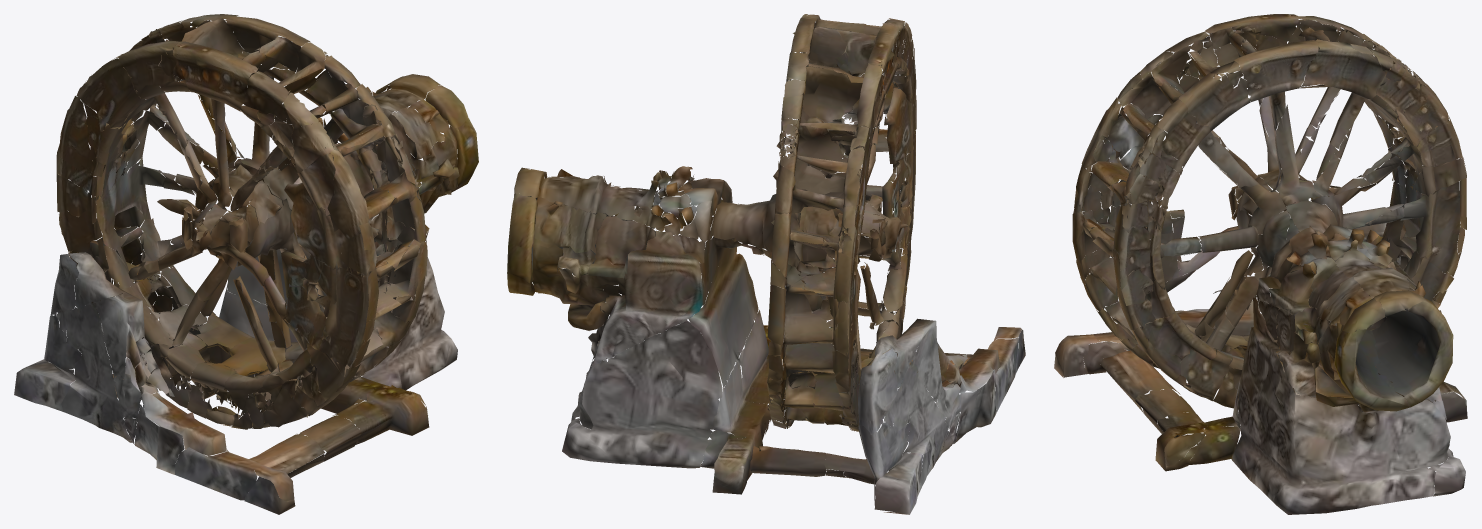
File: prop_vaelor_turbine_wheel_LOD0.glb
The picture shows the model from 3 angles, left to right: view 1: azimuth 30°, elevation 25°; view 2: azimuth 150°, elevation 25°; view 3: azimuth 270°, elevation 25°; orthographic projection. The views are drawn at different scales.
Visible parts, largest first — view 1: tripo_node_53d2a571-26fc-474f-be46-1b7faa536caf; view 2: tripo_node_53d2a571-26fc-474f-be46-1b7faa536caf; view 3: tripo_node_53d2a571-26fc-474f-be46-1b7faa536caf.
Part boxes in pixels (bbox=[...]): tripo_node_53d2a571-26fc-474f-be46-1b7faa536caf: bbox=[14, 14, 478, 514]; tripo_node_53d2a571-26fc-474f-be46-1b7faa536caf: bbox=[507, 14, 1025, 514]; tripo_node_53d2a571-26fc-474f-be46-1b7faa536caf: bbox=[1054, 14, 1467, 514].
Bounding box in the file's own units: 1 × 0.8806 × 0.8721.
1 material, 1 textured.
